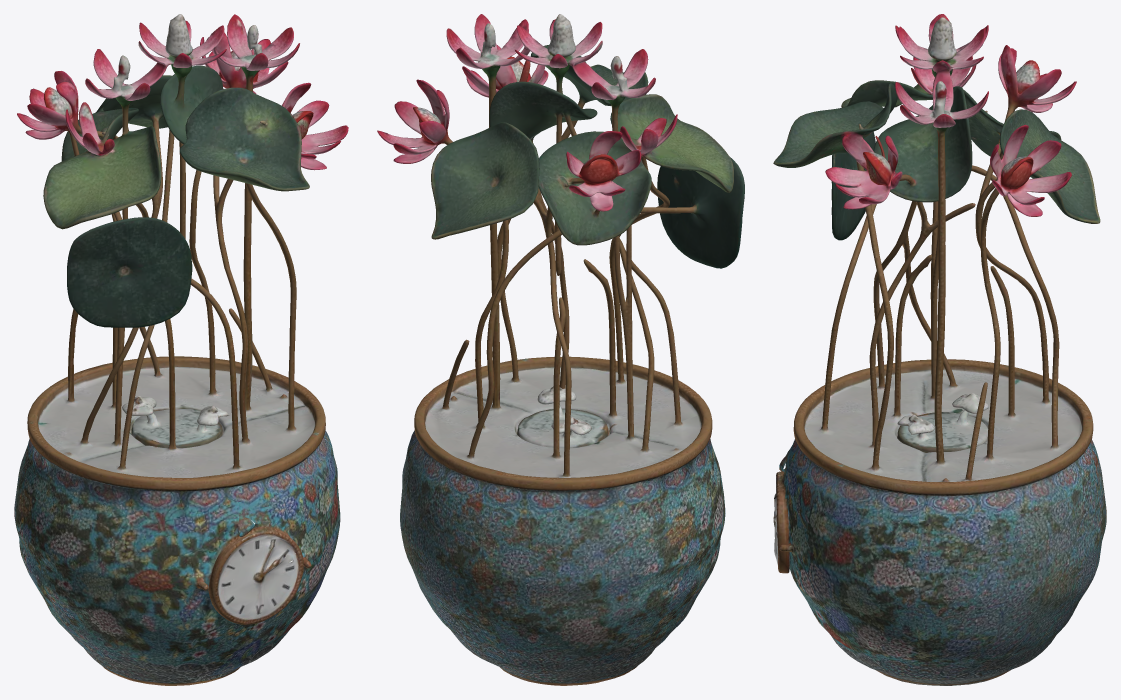
File: 铜镀金嵌珐琅转鸭荷花缸钟.glb
3 views of the same model, side by side, from view 1: azimuth 30°, elevation 25°; view 2: azimuth 150°, elevation 25°; view 3: azimuth 270°, elevation 25° (orthographic).
Parts seen in each view (by area): view 1: tripo_node_2053440a; view 2: tripo_node_2053440a; view 3: tripo_node_2053440a.
Part boxes in pixels (box(x1,y1,x2,y2)): tripo_node_2053440a: box(14, 14, 348, 685); tripo_node_2053440a: box(377, 14, 744, 685); tripo_node_2053440a: box(773, 14, 1106, 685).
Size of the model in its own units: 46.48 by 98.1 by 46.22.
1 material, 1 textured.
